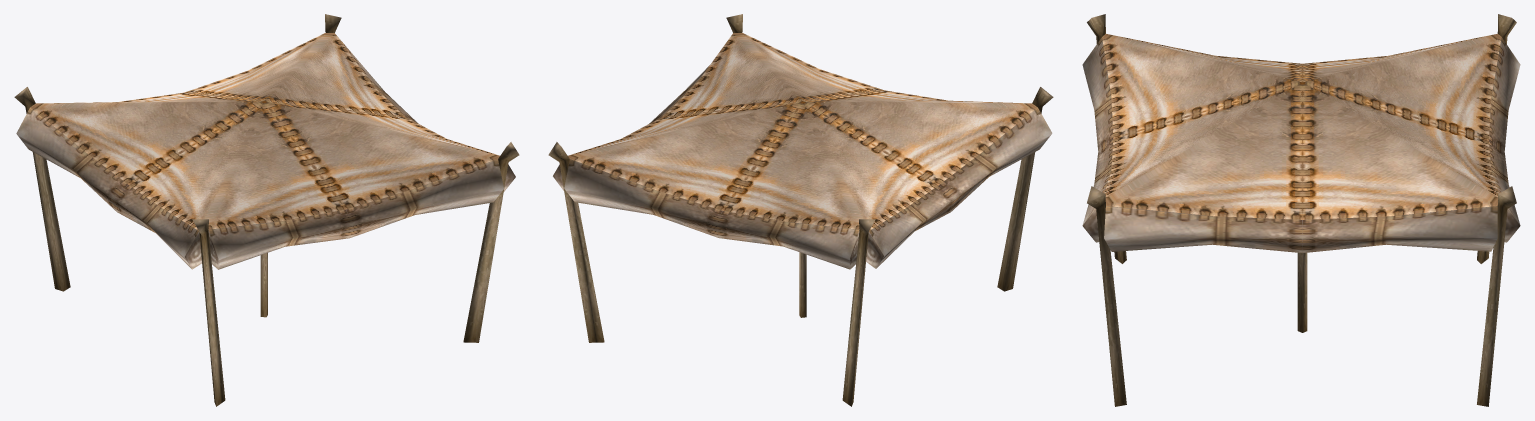
Rendered from excavationtentpavillion.obj.
3 renders of one model, left to right at view 1: azimuth 30°, elevation 25°; view 2: azimuth 150°, elevation 25°; view 3: azimuth 270°, elevation 25°, orthographic. The views are drawn at different scales.
Parts seen in each view (by area): view 1: EXCAVATIONTENTPAVILLION2, EXCAVATIONTENTPAVILLION1, EXCAVATIONTENTPAVILLION0; view 2: EXCAVATIONTENTPAVILLION2, EXCAVATIONTENTPAVILLION1, EXCAVATIONTENTPAVILLION0; view 3: EXCAVATIONTENTPAVILLION2, EXCAVATIONTENTPAVILLION1, EXCAVATIONTENTPAVILLION0.
Part boxes in pixels (left/top/right/bottom): EXCAVATIONTENTPAVILLION2: left=30, top=33, right=499, bottom=230; EXCAVATIONTENTPAVILLION1: left=16, top=35, right=515, bottom=269; EXCAVATIONTENTPAVILLION0: left=14, top=14, right=519, bottom=406; EXCAVATIONTENTPAVILLION2: left=568, top=32, right=1037, bottom=230; EXCAVATIONTENTPAVILLION1: left=553, top=65, right=1052, bottom=269; EXCAVATIONTENTPAVILLION0: left=548, top=14, right=1053, bottom=406; EXCAVATIONTENTPAVILLION2: left=1102, top=33, right=1501, bottom=219; EXCAVATIONTENTPAVILLION1: left=1082, top=37, right=1520, bottom=253; EXCAVATIONTENTPAVILLION0: left=1087, top=14, right=1516, bottom=406.
Size of the model in its own units: 8.75 by 5.43 by 8.66.
3 materials, 3 textured.
